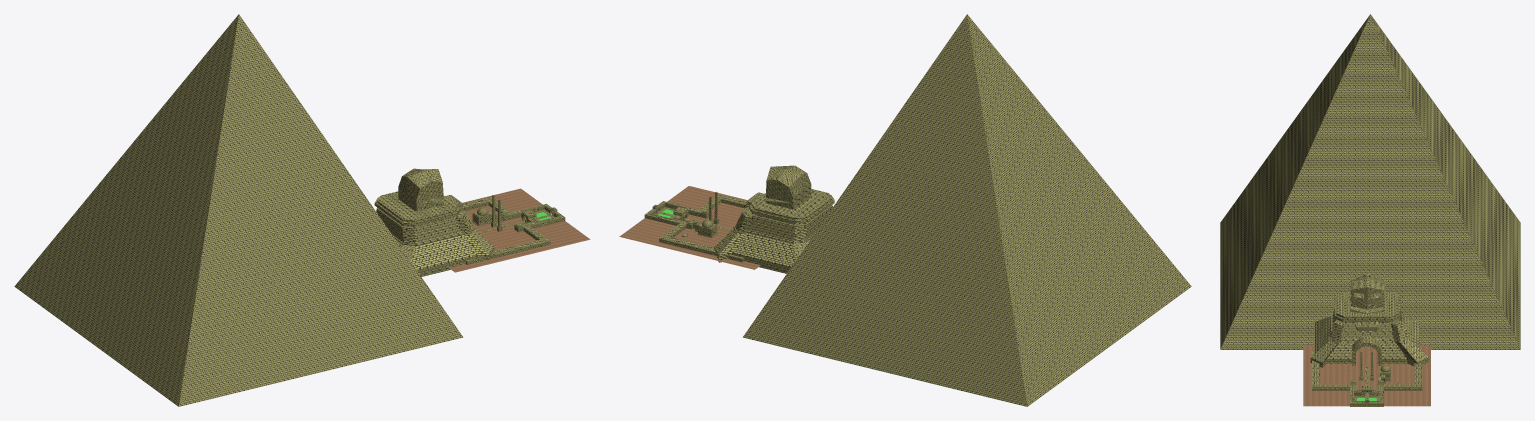
File: temple.gltf
The picture shows the model from 3 angles, left to right: view 1: azimuth 30°, elevation 25°; view 2: azimuth 150°, elevation 25°; view 3: azimuth 270°, elevation 25°; orthographic projection. The views are drawn at different scales.
Visible parts, largest first — view 1: Cube, Cube.001-col, Plane-col, Cube.003-col, Cube.016-col; view 2: Cube, Cube.001-col, Plane-col, Cube.003-col, Cube.016-col; view 3: Cube, Cube.001-col, Plane-col, Cube.003-col, Cube.016-col, Cube -col.
Boxes of the visible parts, left/top/right/bottom form: Cube: left=14, top=14, right=463, bottom=406; Cube.001-col: left=374, top=191, right=494, bottom=276; Plane-col: left=449, top=188, right=590, bottom=272; Cube.003-col: left=460, top=197, right=565, bottom=264; Cube.016-col: left=398, top=168, right=444, bottom=211; Cube: left=742, top=14, right=1191, bottom=406; Cube.001-col: left=714, top=189, right=834, bottom=273; Plane-col: left=619, top=186, right=760, bottom=269; Cube.003-col: left=644, top=194, right=749, bottom=262; Cube.016-col: left=765, top=165, right=811, bottom=209; Cube: left=1220, top=14, right=1520, bottom=349; Cube.001-col: left=1310, top=292, right=1428, bottom=367; Plane-col: left=1303, top=346, right=1430, bottom=406; Cube.003-col: left=1312, top=350, right=1422, bottom=406; Cube.016-col: left=1350, top=273, right=1384, bottom=313; Cube -col: left=1352, top=336, right=1381, bottom=365.
Size of the model in its own units: 890 by 554 by 554.
4 materials, 2 textured.
